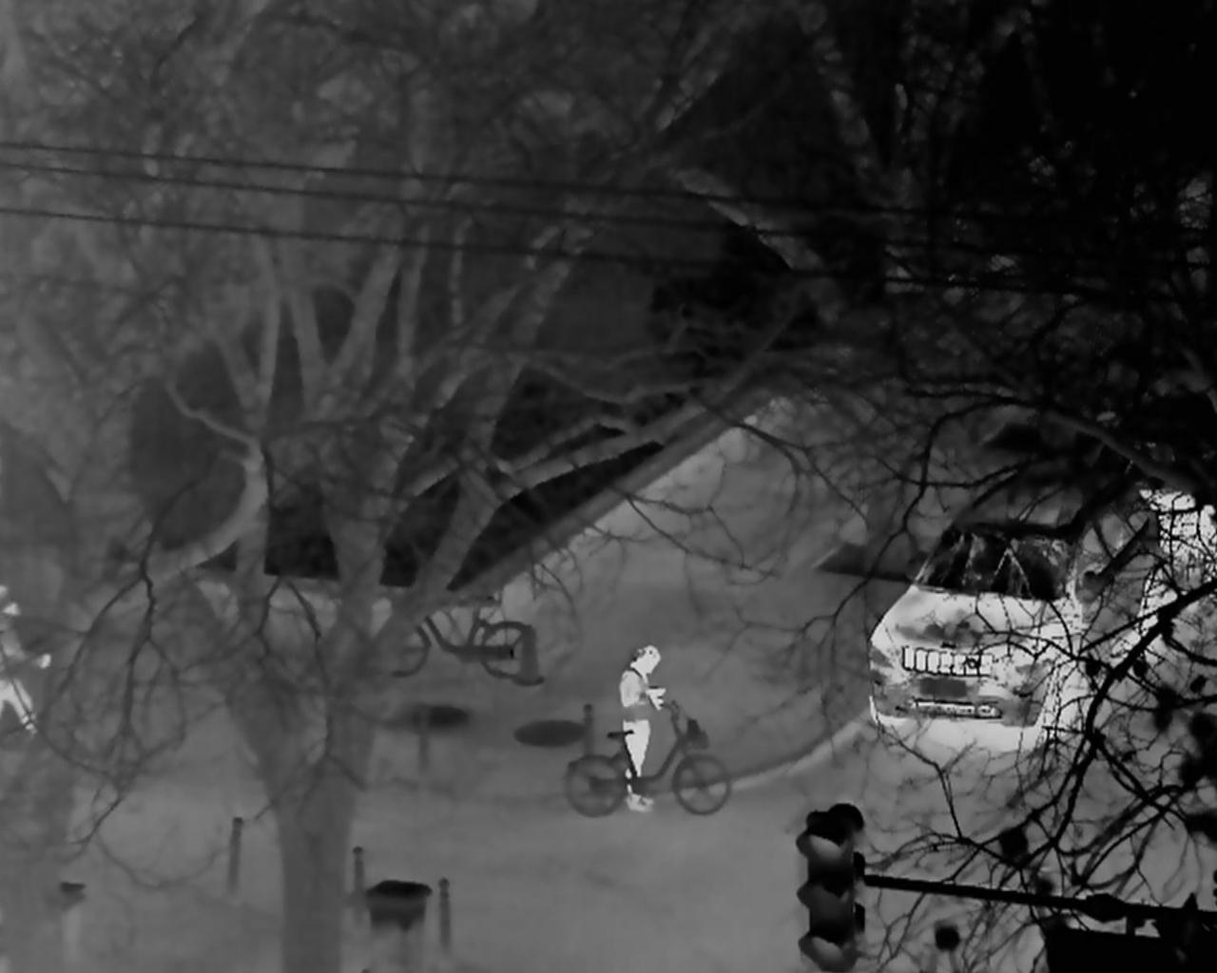person: (618, 644, 671, 812)
